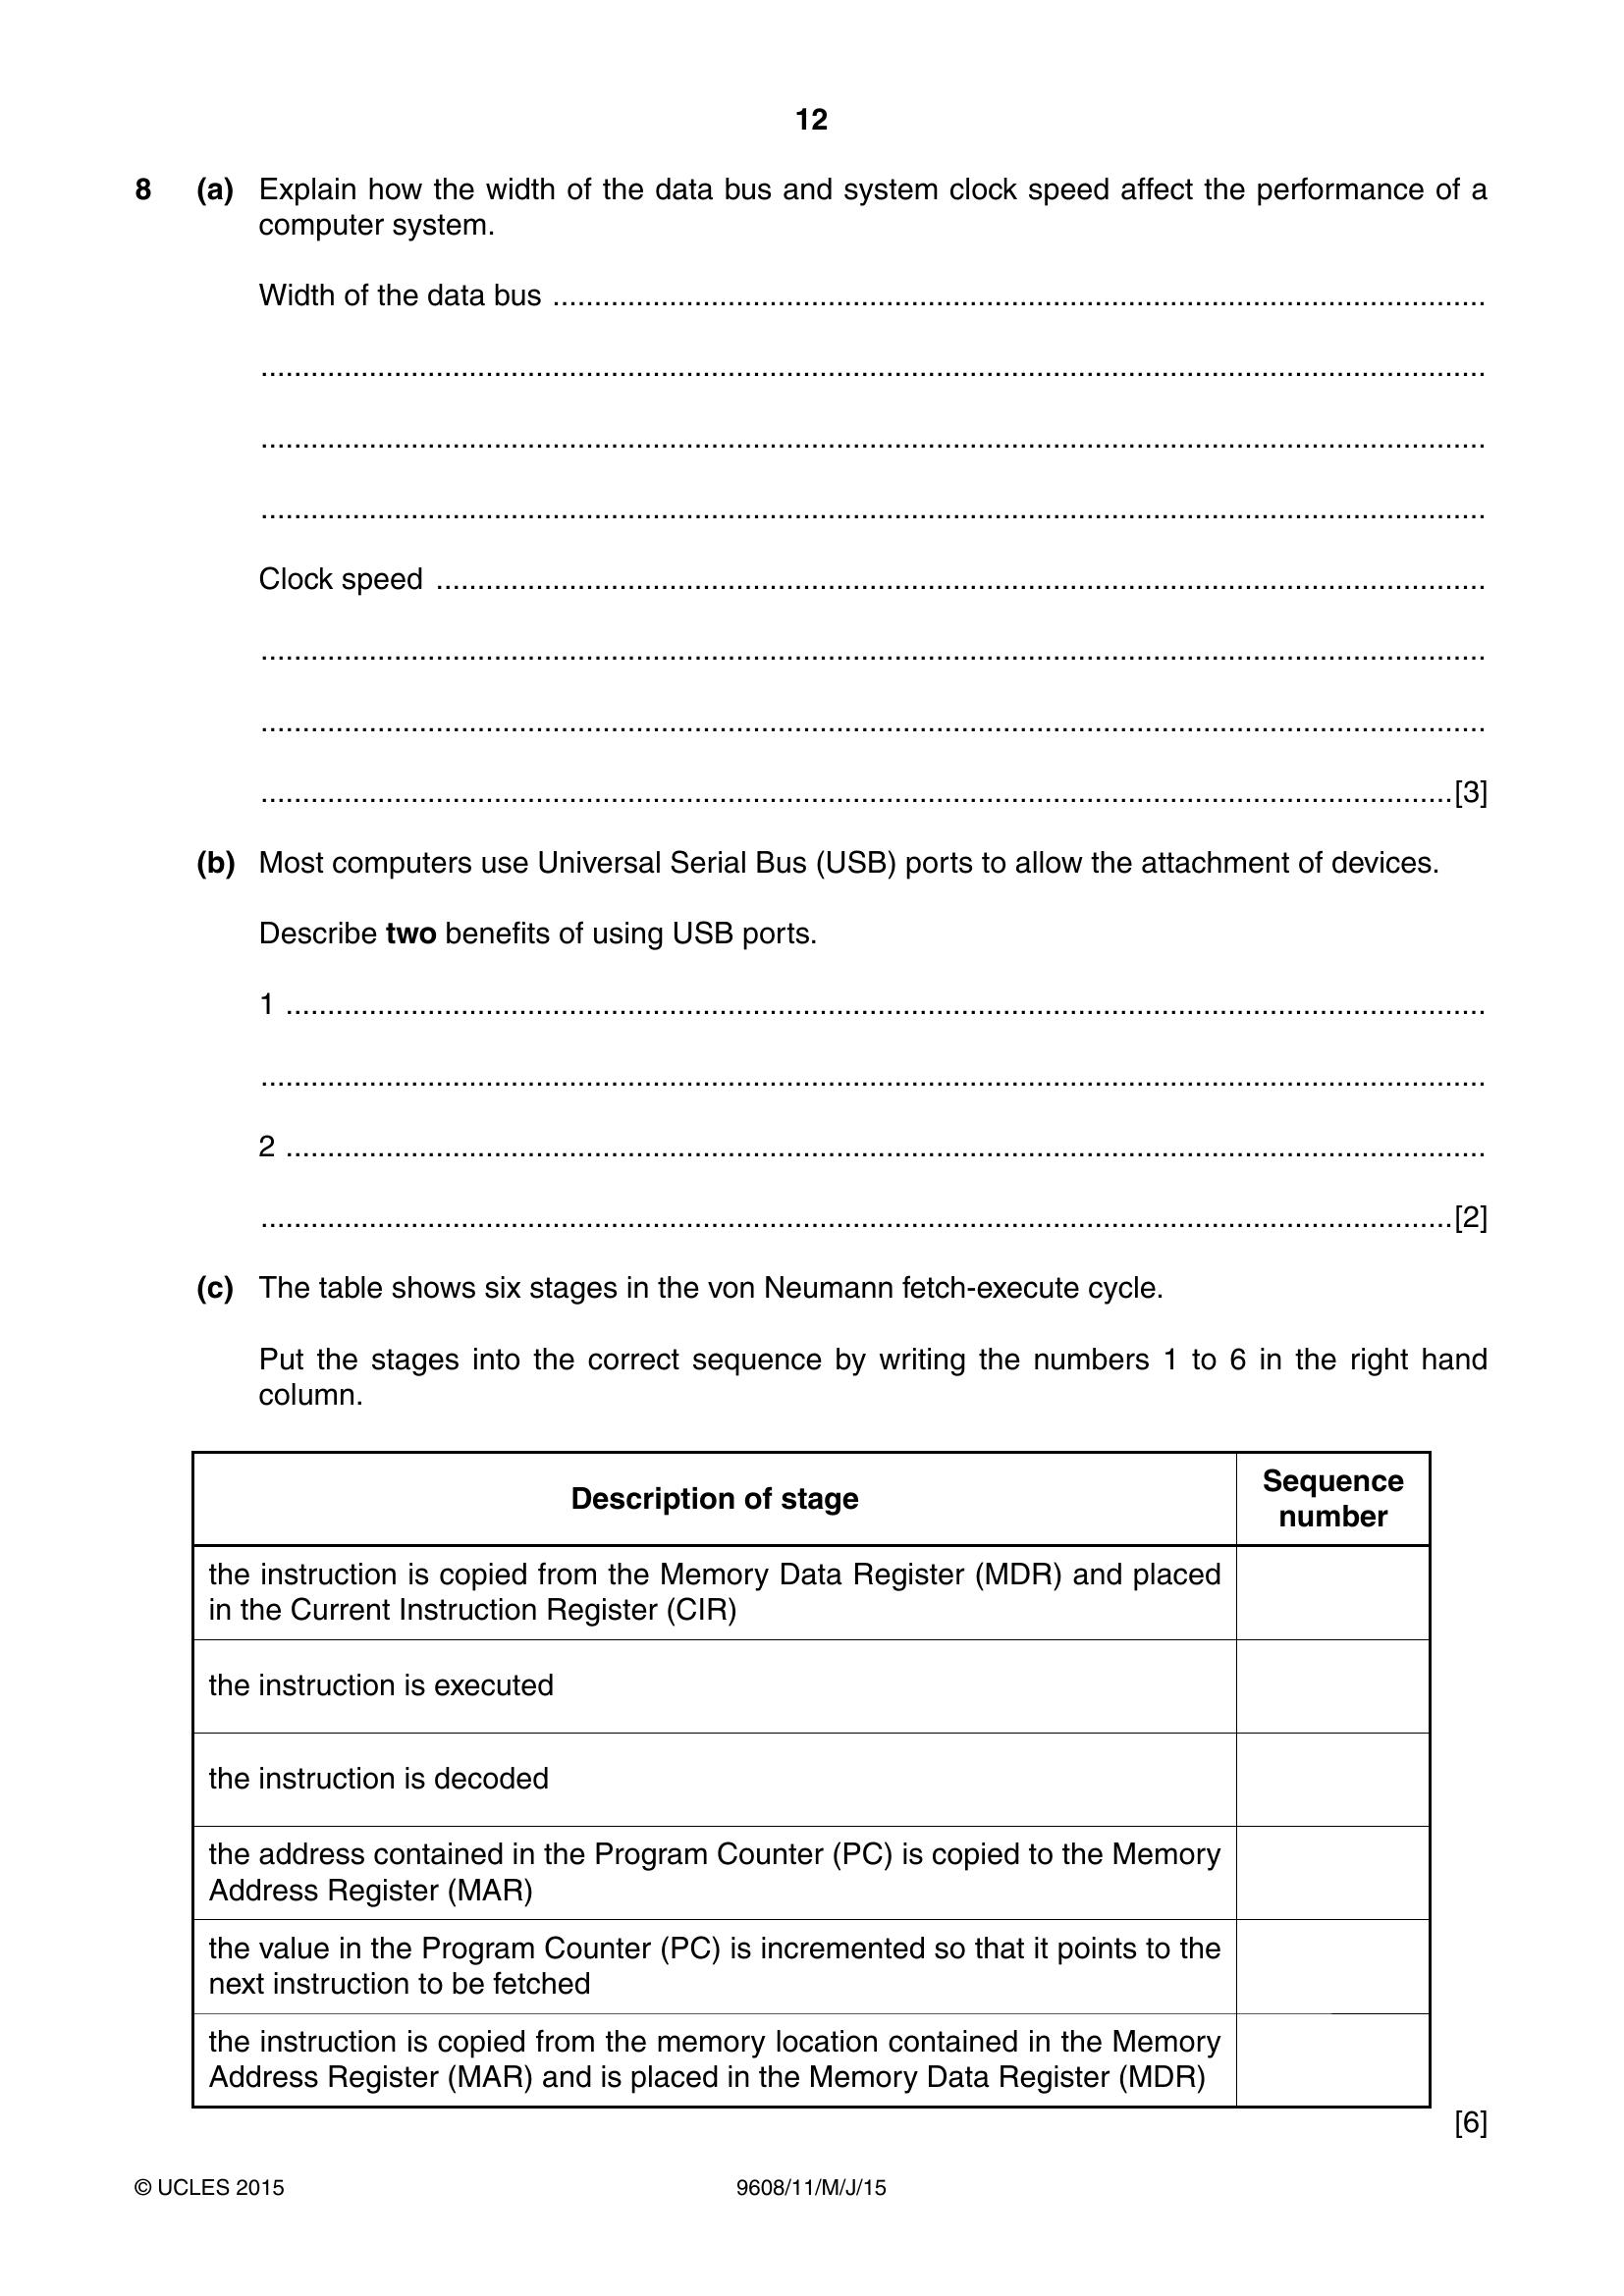question: (16, 139, 1624, 2155)
